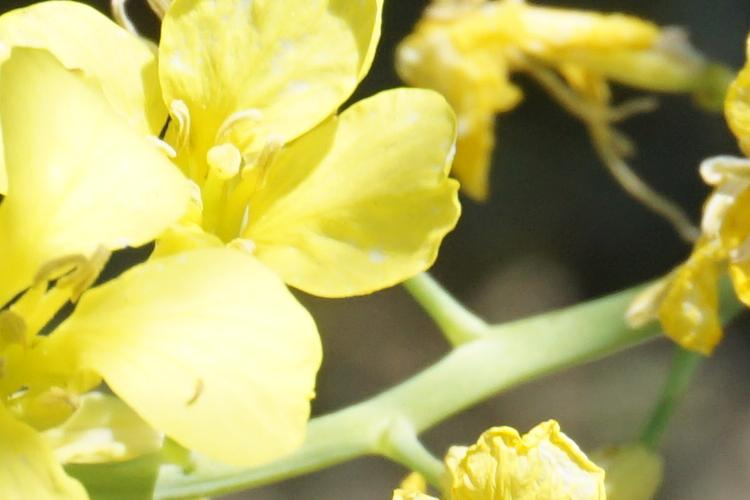yellow: (45, 7, 462, 286), (26, 140, 327, 491), (423, 18, 679, 172)
